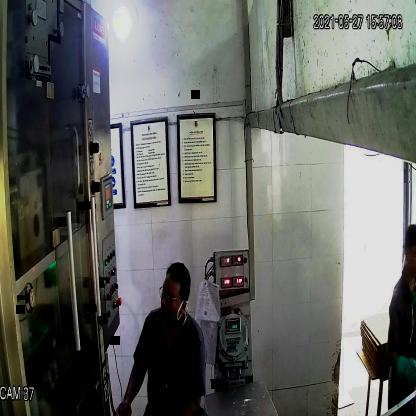goggles: (157, 282, 186, 308)
